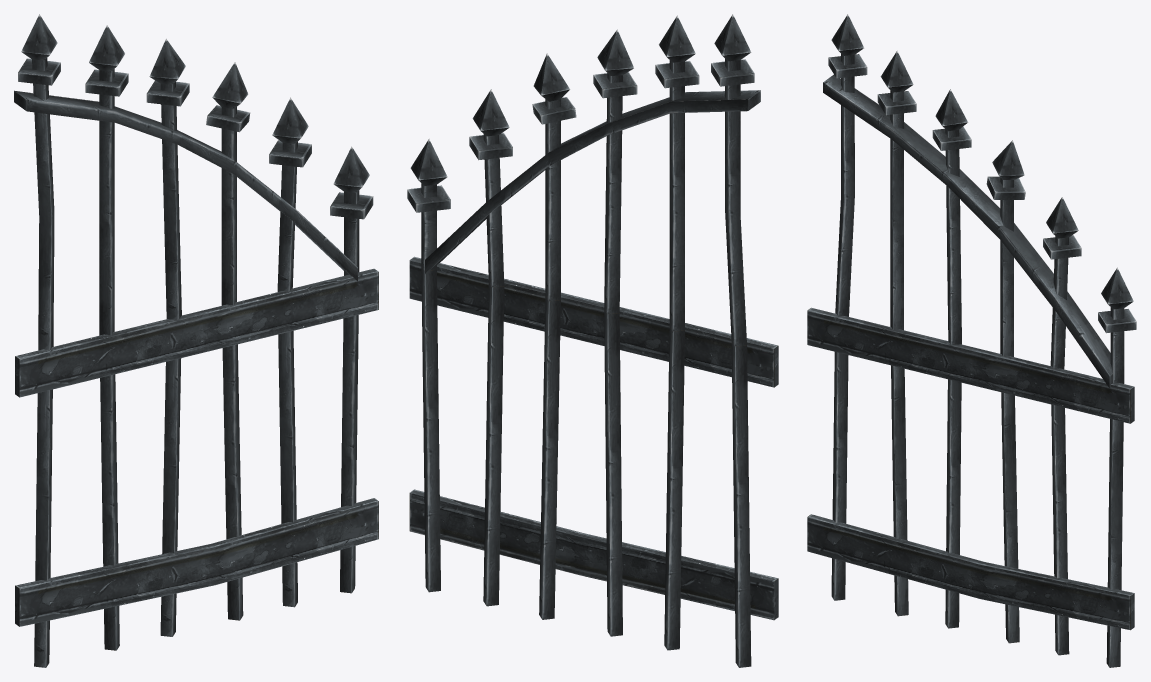
File: Z_tiemen002.fbx
The picture shows the model from 3 angles, left to right: view 1: azimuth 30°, elevation 25°; view 2: azimuth 150°, elevation 25°; view 3: azimuth 330°, elevation 25°; orthographic projection. The views are drawn at different scales.
Visible parts, largest first — view 1: Z_tiemen002; view 2: Z_tiemen002; view 3: Z_tiemen002.
Boxes of the visible parts, x1,y1,x2,y2 form: Z_tiemen002: (14,14,378,667); Z_tiemen002: (407,14,778,667); Z_tiemen002: (807,14,1136,667).
Size of the model in its own units: 306 by 524 by 46.18.
